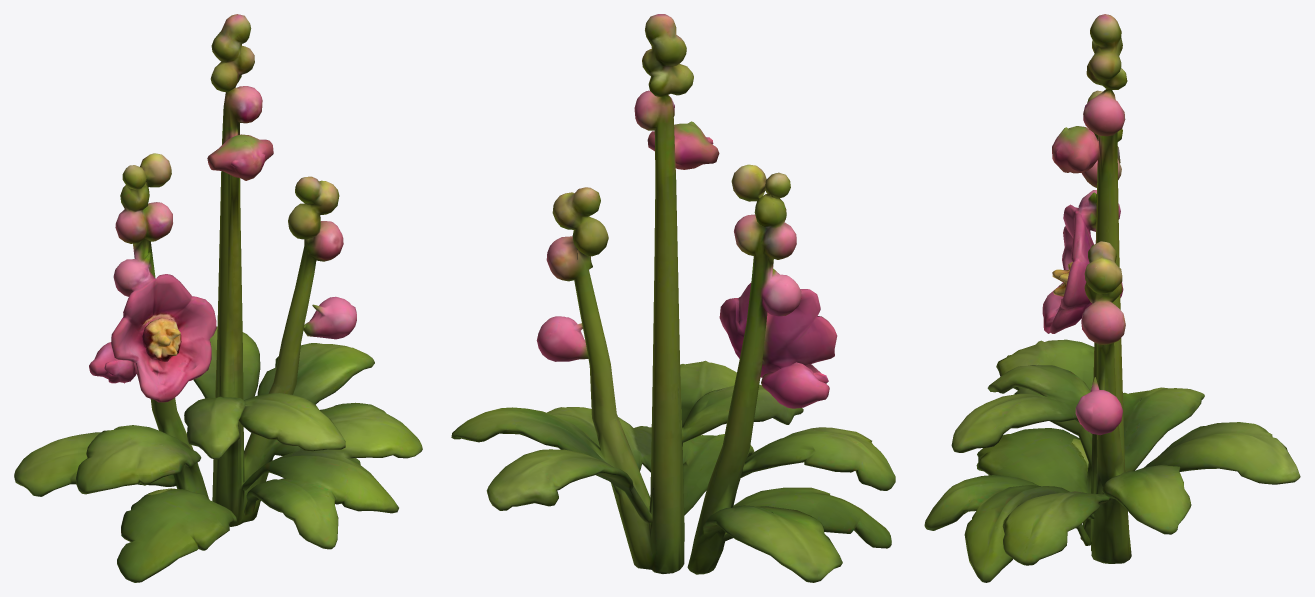
File: mallow.glb
The picture shows the model from 3 angles, left to right: view 1: azimuth 30°, elevation 25°; view 2: azimuth 150°, elevation 25°; view 3: azimuth 270°, elevation 25°; orthographic projection. The views are drawn at different scales.
Parts seen in each view (by area): view 1: mallow; view 2: mallow; view 3: mallow.
Part boxes in pixels (x1,y1,x2,y2): mallow: (14, 14, 422, 582); mallow: (451, 14, 895, 582); mallow: (924, 14, 1300, 582).
Size of the model in its own units: 0.8275 by 1.15 by 0.7242.
Materials: 1 (1 with a texture image).
